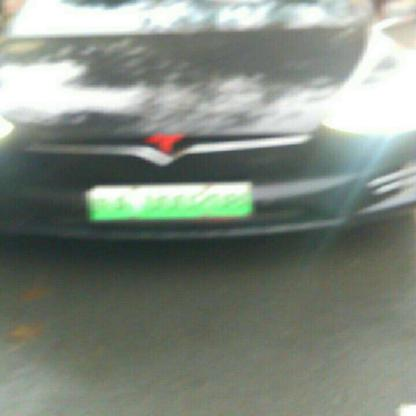lp: (86, 181, 254, 222)
